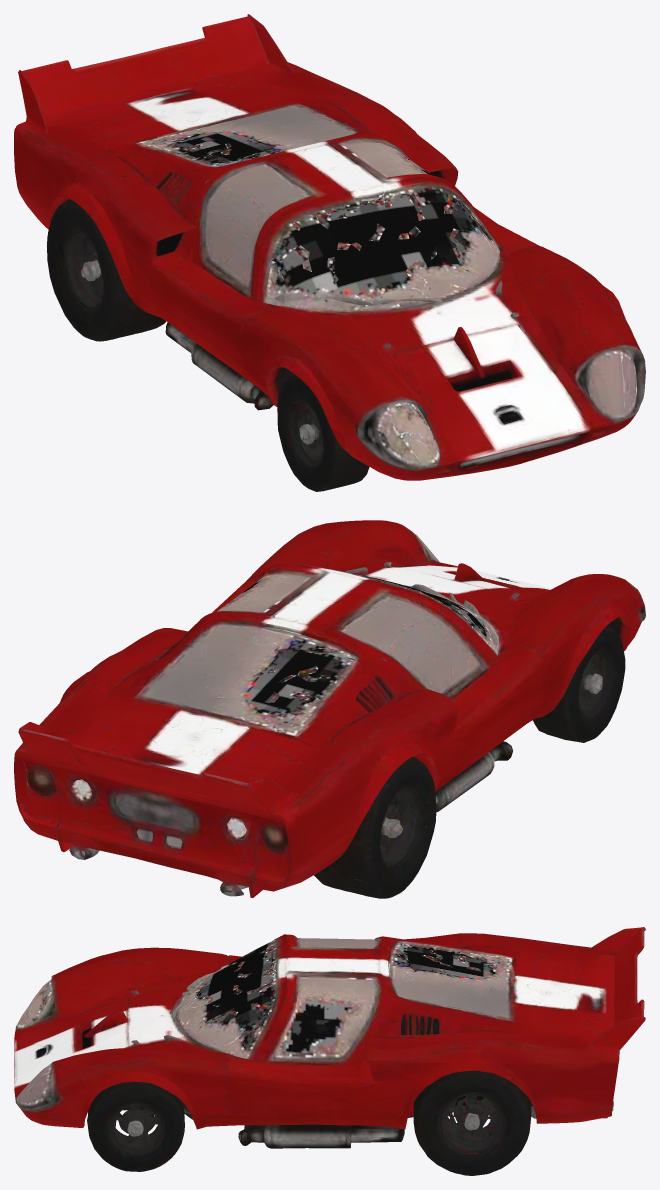
File: hero-prototype.glb
The picture shows the model from 3 angles, top to bottom: view 1: azimuth 30°, elevation 25°; view 2: azimuth 150°, elevation 25°; view 3: azimuth 270°, elevation 25°; orthographic projection. The views are drawn at different scales.
Parts seen in each view (by area): view 1: geometry_0; view 2: geometry_0; view 3: geometry_0.
Part boxes in pixels (left/top/right/bottom): geometry_0: left=14, top=14, right=645, bottom=491; geometry_0: left=14, top=520, right=645, bottom=898; geometry_0: left=14, top=927, right=645, bottom=1175.
Size of the model in its own units: 0.4829 by 0.2728 by 1.
1 material, 1 textured.
